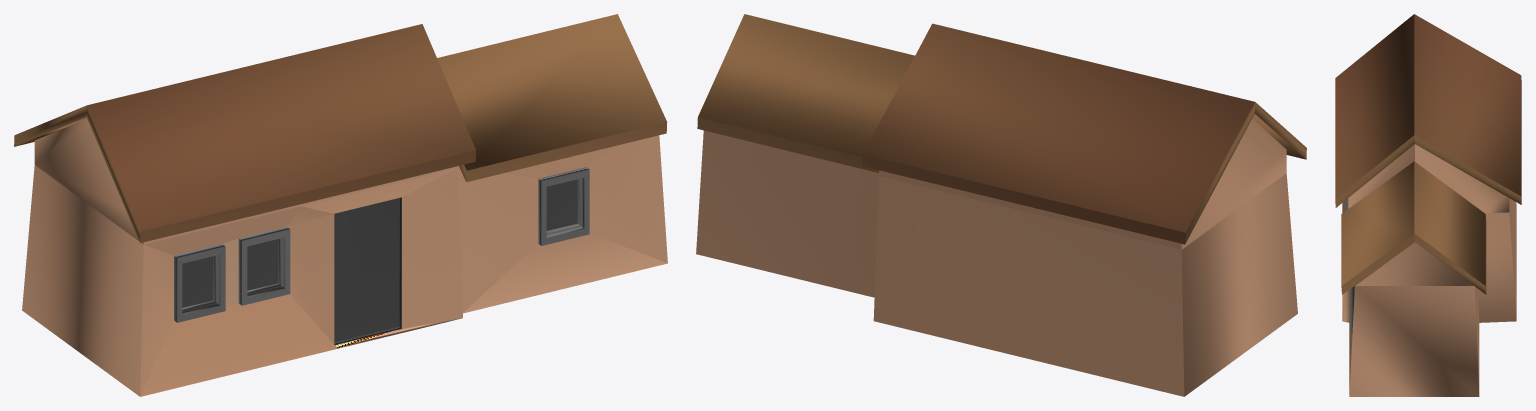
The model's file is Rumah 1.fbx.
The picture shows the model from 3 angles, left to right: view 1: azimuth 30°, elevation 25°; view 2: azimuth 150°, elevation 25°; view 3: azimuth 270°, elevation 25°; orthographic projection. The views are drawn at different scales.
Parts seen in each view (by area): view 1: Rumah, Atap; view 2: Rumah, Atap; view 3: Atap, Rumah.
Boxes of the visible parts, bbox=[...] form: Rumah: bbox=[22, 119, 667, 396]; Atap: bbox=[14, 14, 667, 242]; Rumah: bbox=[696, 119, 1297, 396]; Atap: bbox=[697, 14, 1306, 244]; Atap: bbox=[1335, 14, 1521, 294]; Rumah: bbox=[1342, 144, 1516, 396].
Size of the model in its own units: 1407 by 644 by 574.
